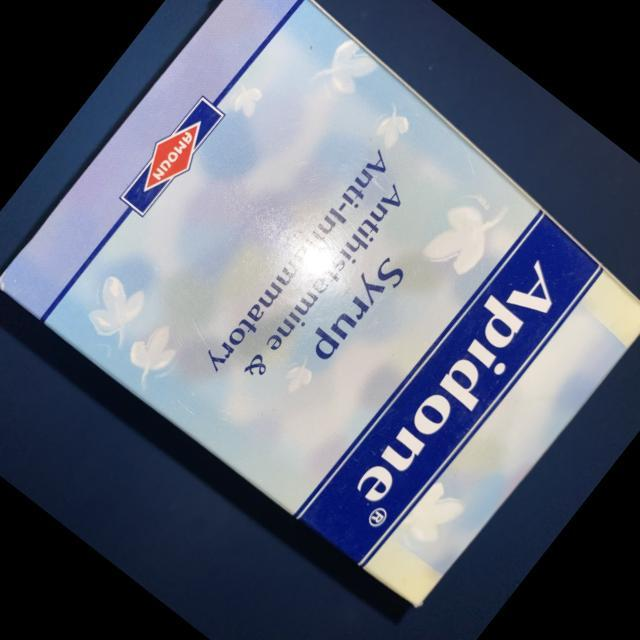Medicine Name: (342, 237, 584, 521)
